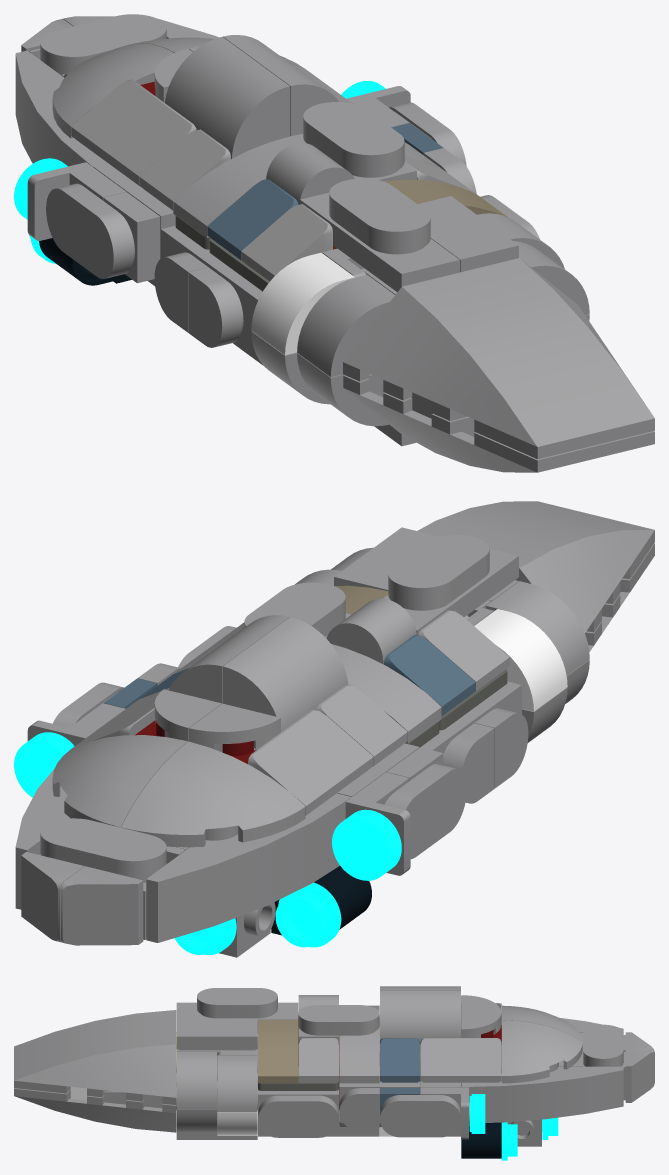
Rendered from nano-mc80a.glb.
The picture shows the model from 3 angles, top to bottom: view 1: azimuth 30°, elevation 25°; view 2: azimuth 150°, elevation 25°; view 3: azimuth 270°, elevation 25°; orthographic projection. The views are drawn at different scales.
Parts seen in each view (by area): view 1: nano-mc80a; view 2: nano-mc80a; view 3: nano-mc80a.
Boxes of the visible parts, x1=… form: nano-mc80a: x1=14, y1=14, x2=654, y2=472; nano-mc80a: x1=14, y1=501, x2=654, y2=957; nano-mc80a: x1=14, y1=986, x2=654, y2=1160.
Bounding box in the file's own units: 1.28 × 0.7194 × 3.15.
